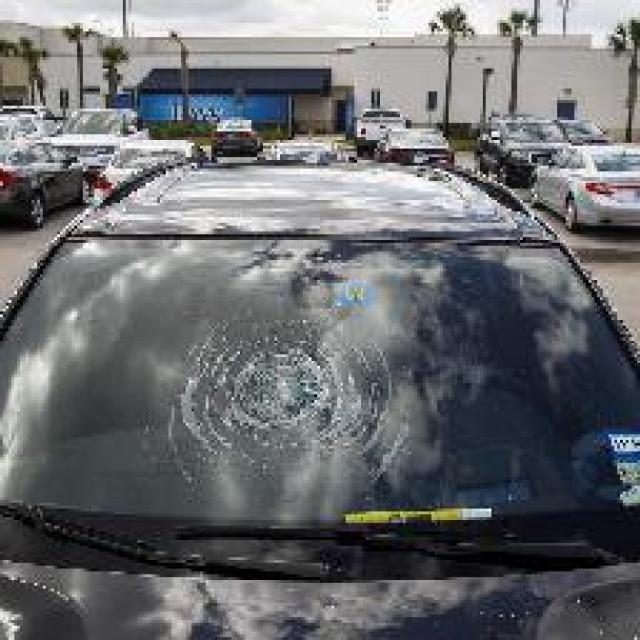damaged: (163, 322, 400, 474)
